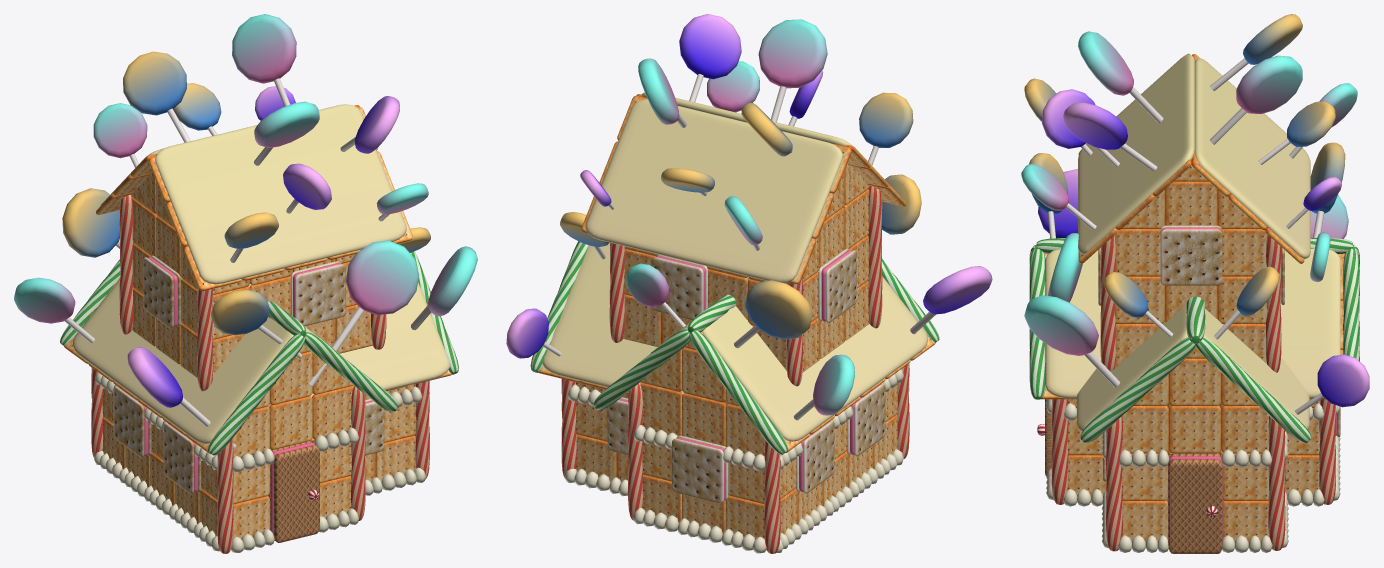
File: cw_house_19.fbx
3 renders of one model, left to right at view 1: azimuth 30°, elevation 25°; view 2: azimuth 150°, elevation 25°; view 3: azimuth 270°, elevation 25°, orthographic. The views are drawn at different scales.
Visible parts, largest first — view 1: cw_house_19; view 2: cw_house_19; view 3: cw_house_19.
Boxes of the visible parts, x1=… form: cw_house_19: x1=14, y1=14, x2=477, y2=553; cw_house_19: x1=506, y1=14, x2=992, y2=553; cw_house_19: x1=1021, y1=14, x2=1369, y2=553.
Bounding box in the file's own units: 867 × 1034 × 720.
